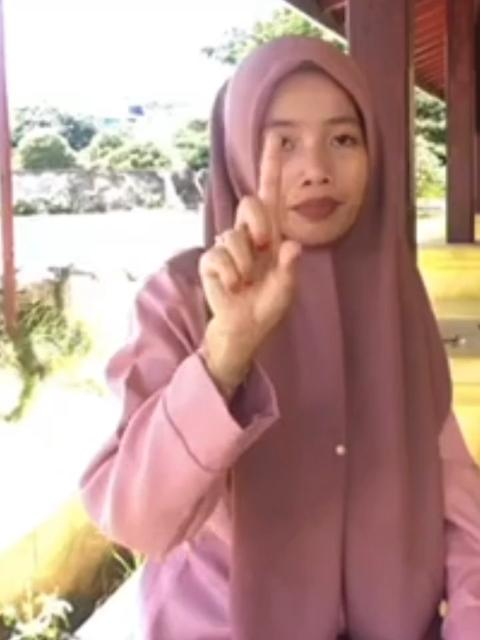X: (188, 129, 311, 339)
